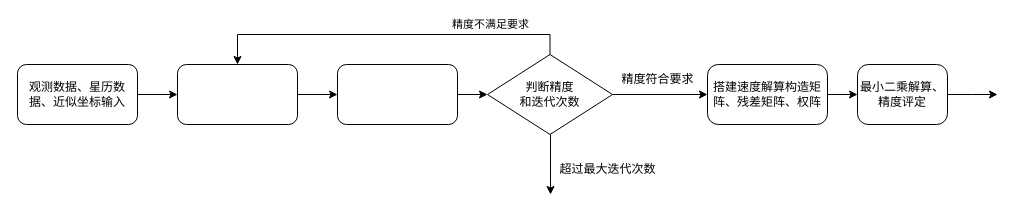
This 1023x220 diagram has some shape labels left out. The shapes that lost their labels are listed below. From the top down, each one's box as (x1, y1, x2, y2) in pixels, then its label:
(176, 64, 298, 124): 搭建位置解算构造矩阵、残差矩阵、权阵
(336, 64, 458, 124): 最小二乘解算，并进行精度评定
